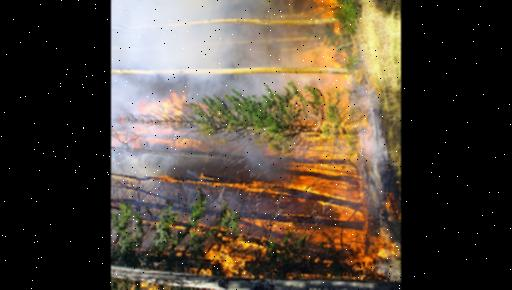fire: (111, 90, 401, 290), (270, 0, 371, 89)
